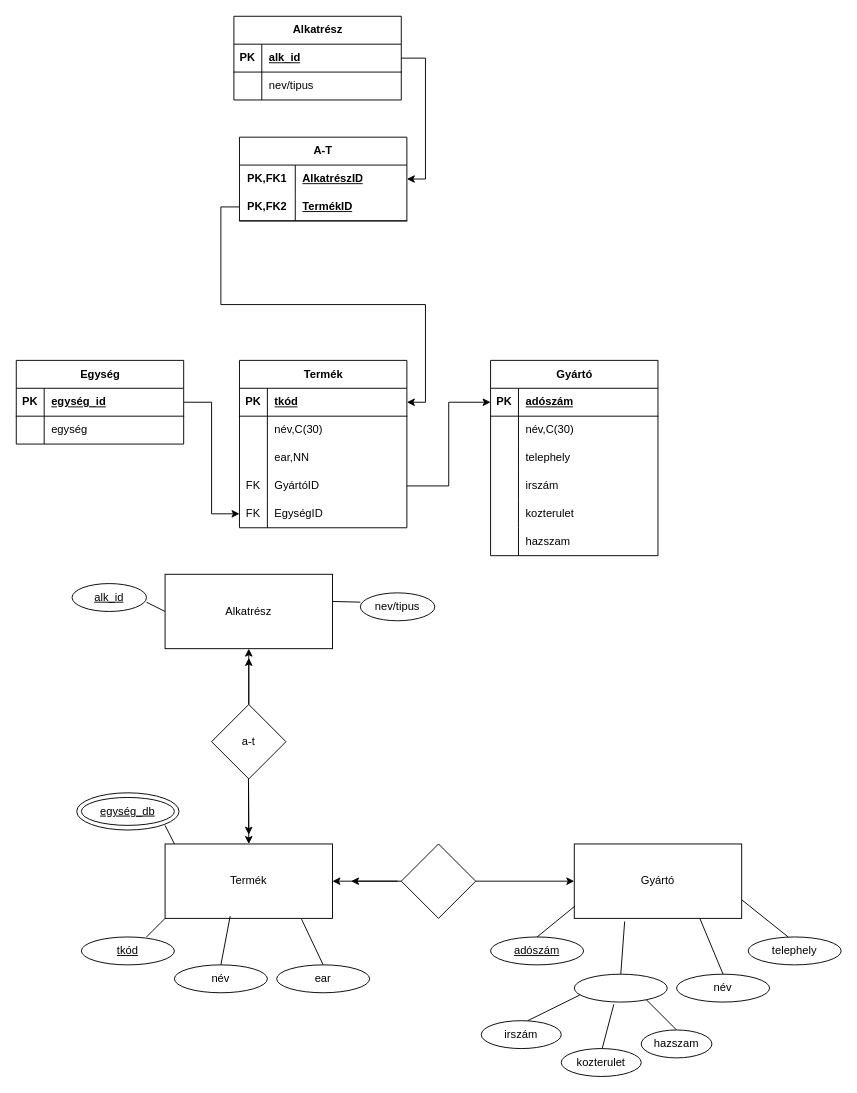
Some shapes in this 857 by 1093 pixel diagram are drawn without their labels. The shapes that lost their labels are listed below. From the top down, each one's box as (x1, y1, x2, y2) in pixels, then its label:
(400, 843, 476, 918): t-gy
(573, 973, 667, 1002): postaicím
